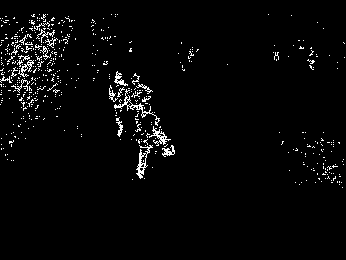person: (129, 103, 176, 188), (104, 71, 129, 140), (128, 74, 149, 119)
